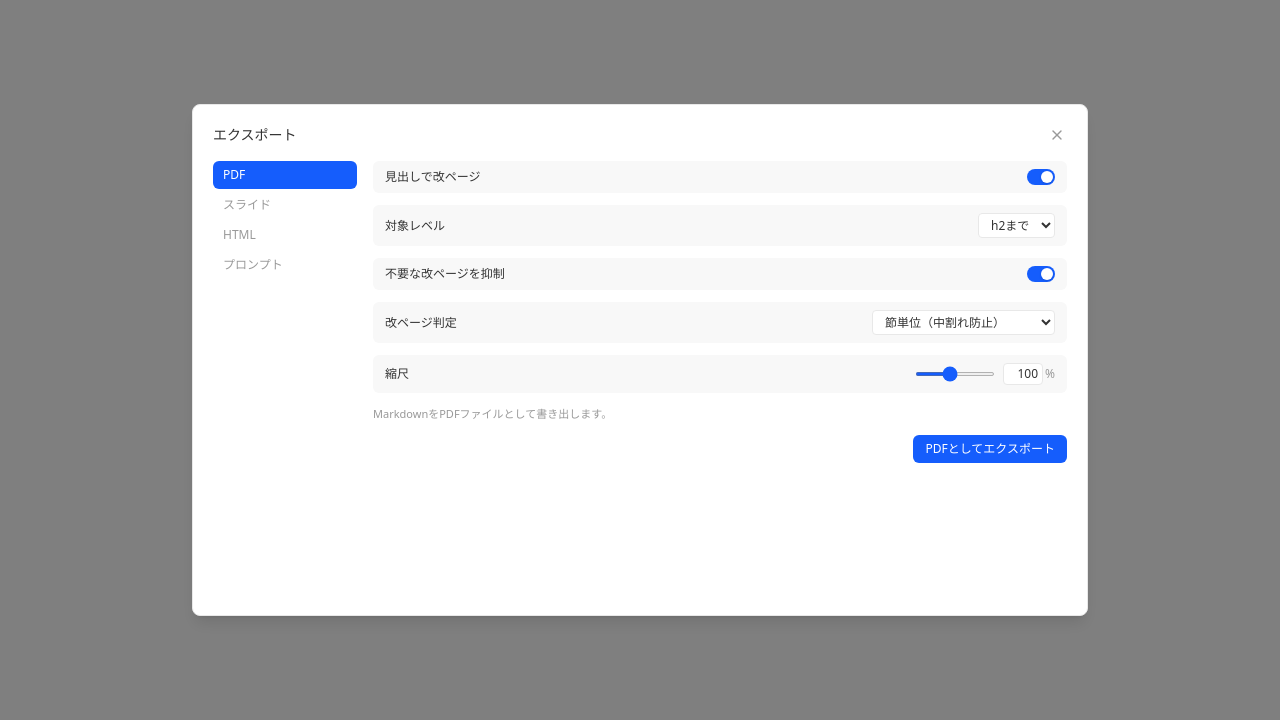
ExportDialog › 開閉・セクション切り替え › タブクリックで HTML セクションに切り替わる
The width and height of the screenshot is (1280, 720).
Step 1. Click the button "HTML" → (285, 235), box [213,221,357,249]
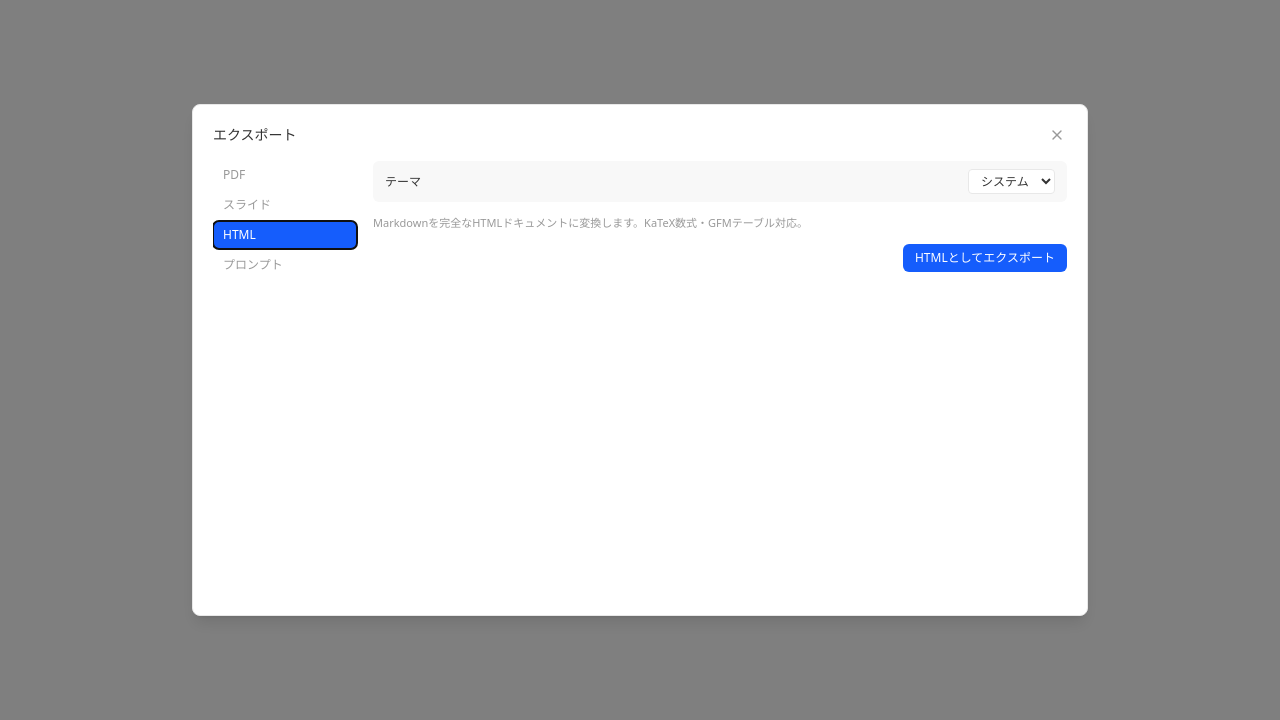
Expected: the button "HTMLとしてエクスポート" is shown, [903,244,1067,272]
